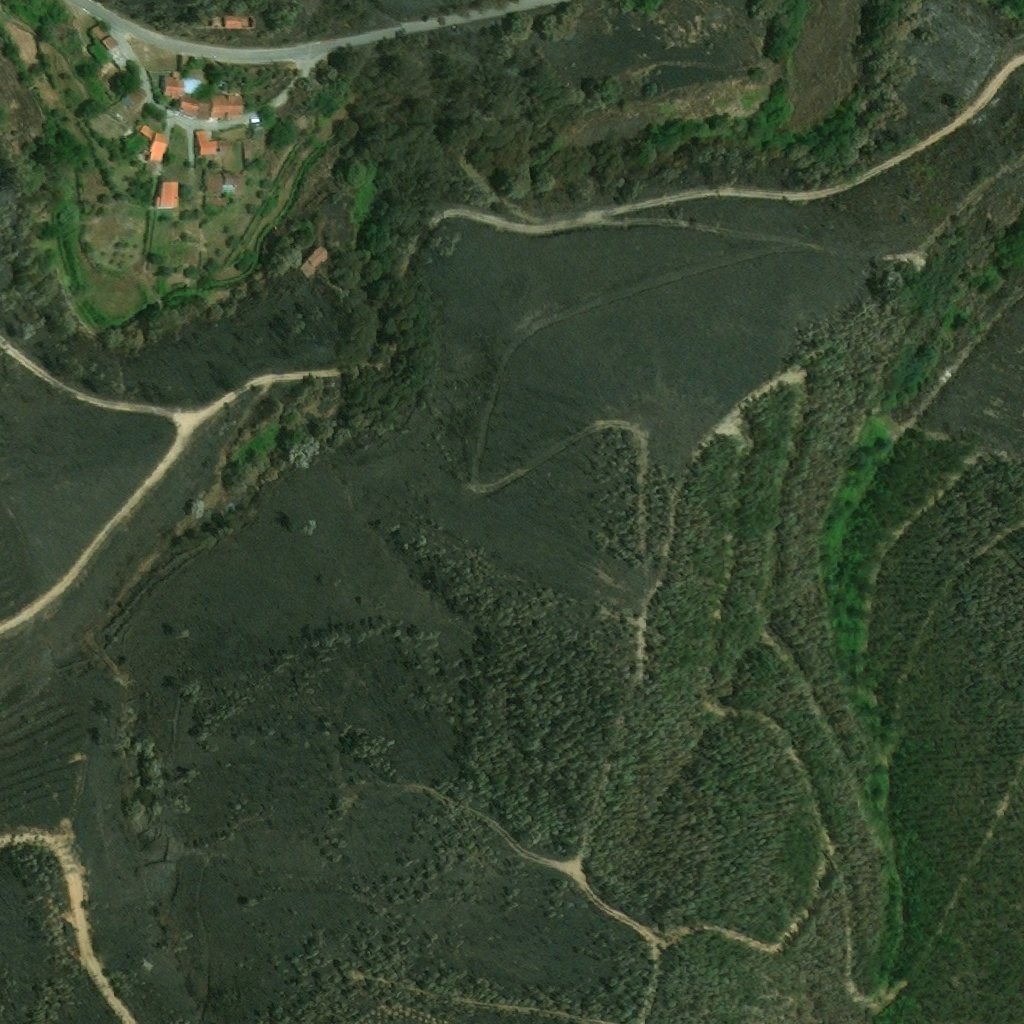0 no-damage: (296, 244, 332, 280), (212, 94, 245, 120), (145, 132, 169, 166), (195, 129, 219, 155), (109, 45, 132, 70), (160, 180, 179, 210), (162, 71, 183, 98), (125, 85, 148, 108), (227, 13, 257, 29), (222, 173, 242, 194), (182, 98, 198, 119), (102, 33, 120, 50), (138, 123, 156, 140), (202, 173, 221, 189), (243, 140, 254, 165), (90, 23, 107, 39), (219, 139, 234, 154), (204, 196, 228, 205), (253, 121, 265, 136), (180, 54, 190, 69), (153, 196, 161, 209), (210, 98, 212, 120)
4 un-classified: (881, 270, 898, 290)
